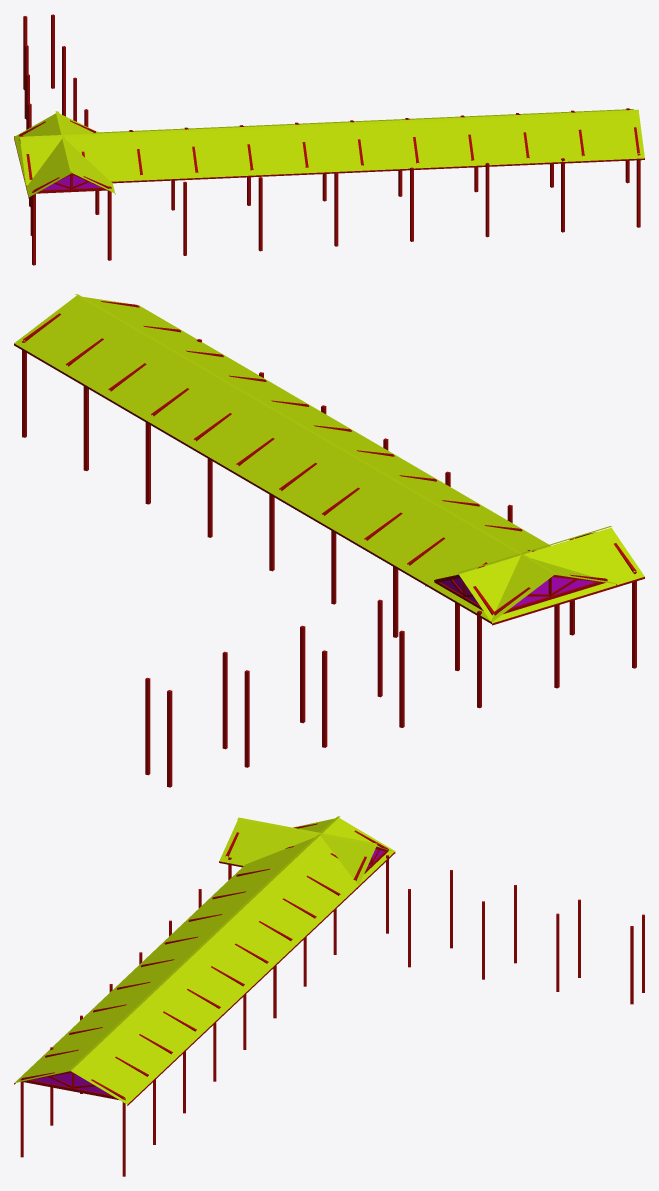
Rendered from rmc_209.glb.
3 renders of one model, top to bottom at view 1: azimuth 30°, elevation 25°; view 2: azimuth 150°, elevation 25°; view 3: azimuth 270°, elevation 25°, orthographic. The views are drawn at different scales.
Parts seen in each view (by area): view 1: rmc_209; view 2: rmc_209; view 3: rmc_209.
Boxes of the visible parts, box(x1,y1,x2,y2) form: rmc_209: box(14, 14, 644, 265); rmc_209: box(14, 294, 644, 787); rmc_209: box(14, 816, 644, 1176).
Size of the model in its own units: 43.48 by 7.2 by 41.45.
